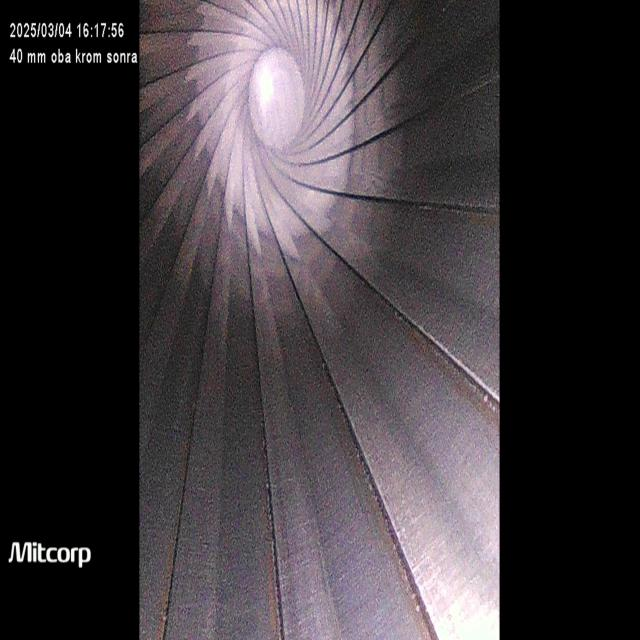hata_8.2: (250, 182, 344, 280)
